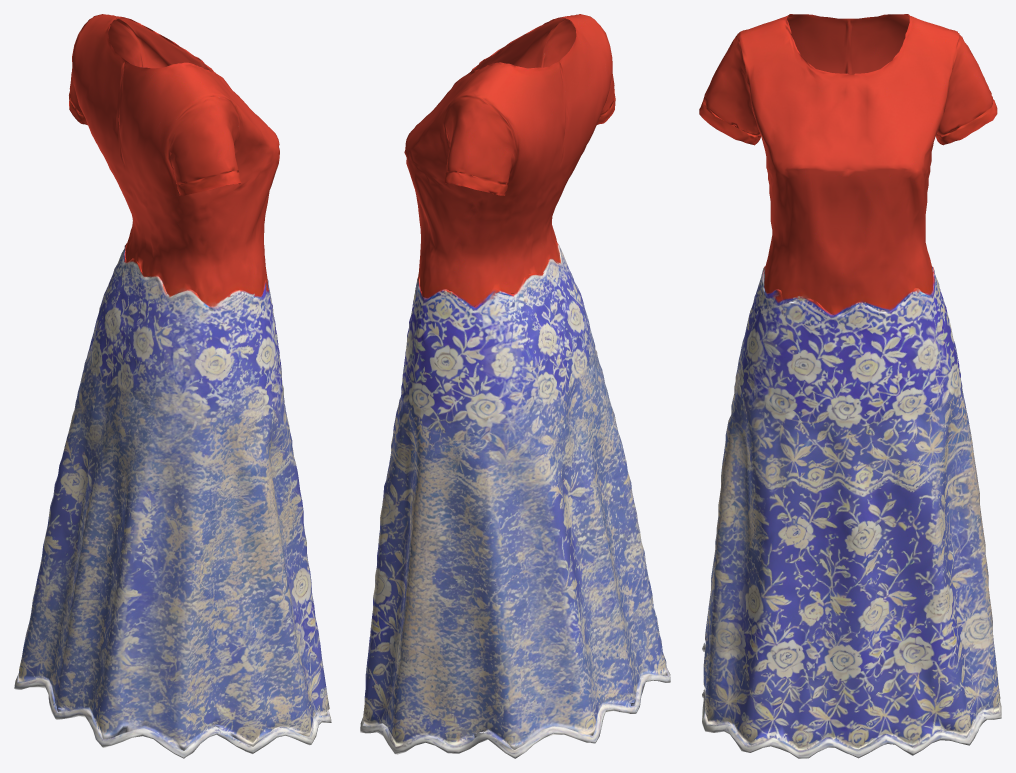
The model's file is lace_skirt.glb.
The picture shows the model from 3 angles, left to right: view 1: azimuth 30°, elevation 25°; view 2: azimuth 150°, elevation 25°; view 3: azimuth 270°, elevation 25°; orthographic projection.
Parts seen in each view (by area): view 1: tripo_node_de23a367-8f4d-46c2-ae05-6a5c6b40d9c6; view 2: tripo_node_de23a367-8f4d-46c2-ae05-6a5c6b40d9c6; view 3: tripo_node_de23a367-8f4d-46c2-ae05-6a5c6b40d9c6.
Part boxes in pixels (x1,y1,x2,y2): tripo_node_de23a367-8f4d-46c2-ae05-6a5c6b40d9c6: (14,14,331,758); tripo_node_de23a367-8f4d-46c2-ae05-6a5c6b40d9c6: (360,14,670,758); tripo_node_de23a367-8f4d-46c2-ae05-6a5c6b40d9c6: (699,14,1001,758).
Size of the model in its own units: 0.3574 by 0.998 by 0.4043.
1 material, 1 textured.
